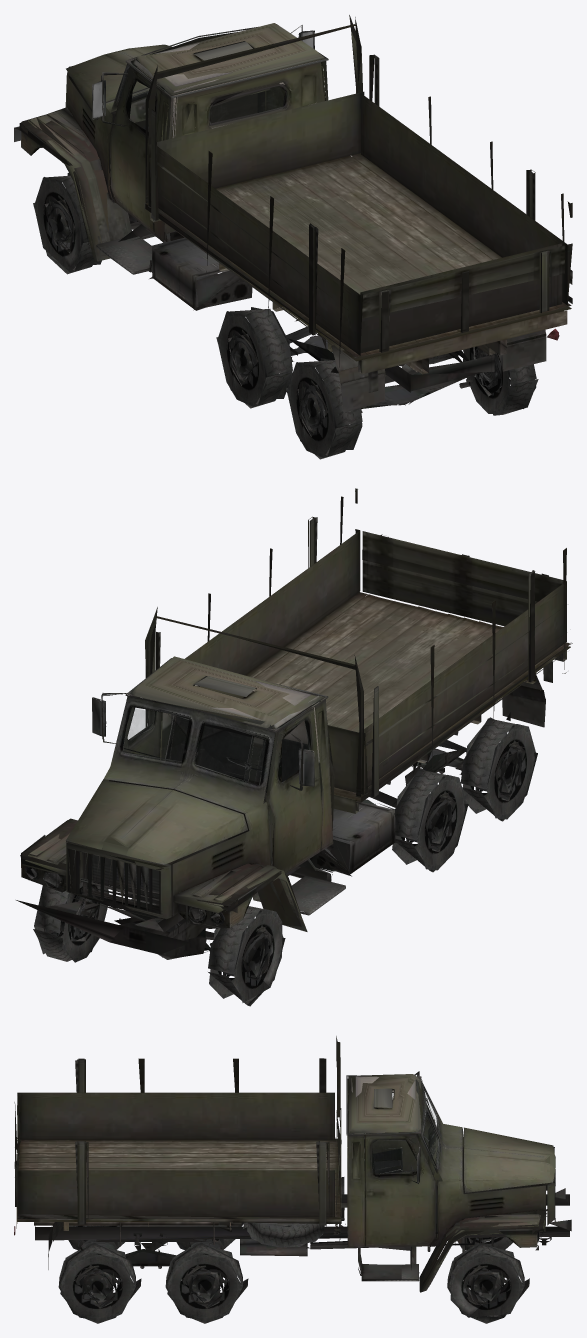
3 views of the same model, one above another, from view 1: azimuth 30°, elevation 25°; view 2: azimuth 150°, elevation 25°; view 3: azimuth 270°, elevation 25° (orthographic). The views are drawn at different scales.
Parts seen in each view (by area): view 1: Object_3, Object_4, Object_10, Object_5; view 2: Object_3, Object_4, Object_10, Object_5, Object_2; view 3: Object_3, Object_4, Object_10, Object_5, Object_2.
Part boxes in pixels (<box>): Object_3: <box>144,15,572,412</box>; Object_4: <box>19,23,328,274</box>; Object_10: <box>33,173,538,459</box>; Object_5: <box>14,126,494,412</box>; Object_3: <box>145,488,572,813</box>; Object_4: <box>20,656,345,931</box>; Object_10: <box>33,712,537,1006</box>; Object_5: <box>16,732,466,959</box>; Object_2: <box>28,708,309,923</box>; Object_3: <box>14,1036,341,1269</box>; Object_4: <box>346,1071,555,1292</box>; Object_10: <box>58,1222,529,1323</box>; Object_5: <box>35,1177,571,1271</box>; Object_2: <box>372,1090,438,1173</box>.
Size of the model in its own units: 2.48 by 2.96 by 6.89.
Materials: 6 (6 with a texture image).
